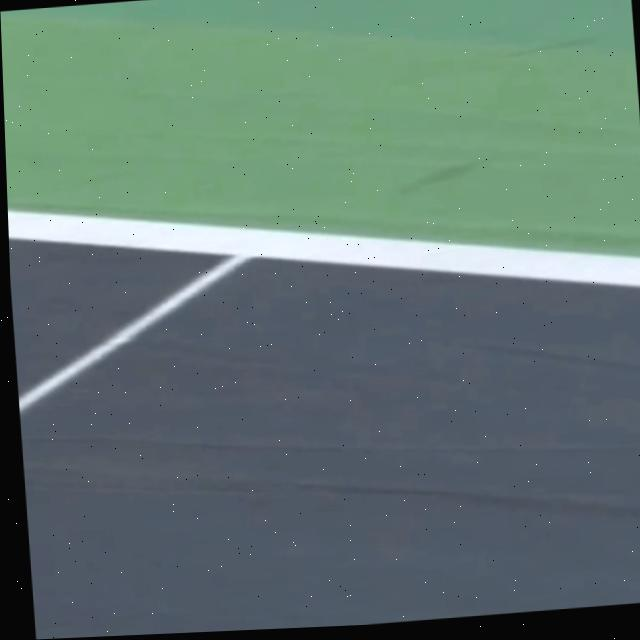right: (8, 211, 640, 286)
